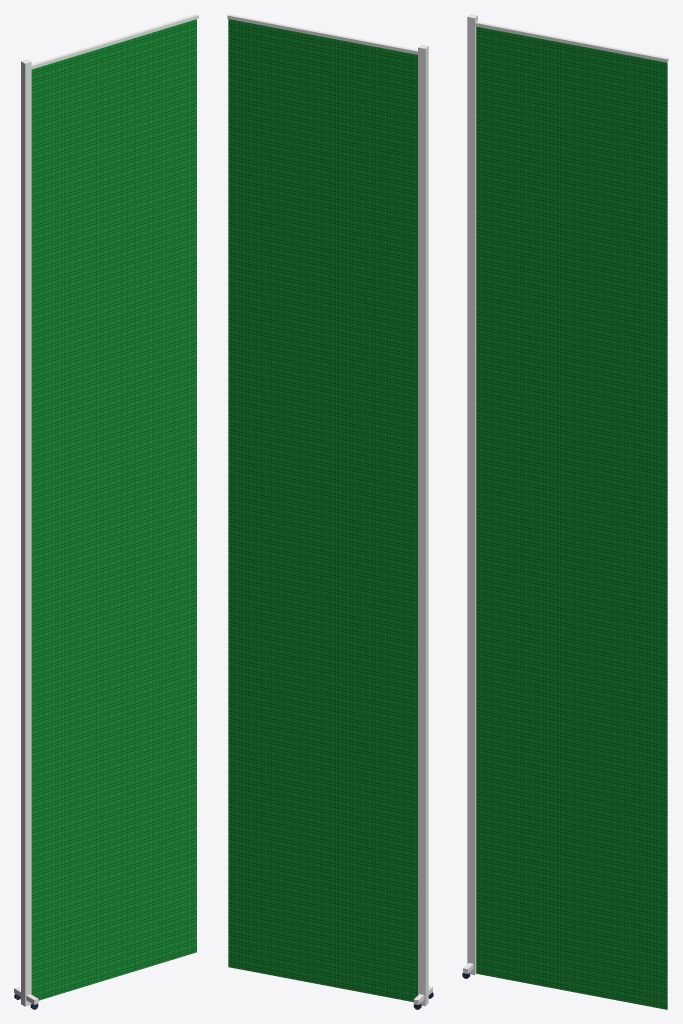
Rendered from Disc_Rotating_part2.FBX.
3 renders of one model, left to right at view 1: azimuth 30°, elevation 25°; view 2: azimuth 150°, elevation 25°; view 3: azimuth 330°, elevation 25°, orthographic.
Visible parts, largest first — view 1: Disc_Rotating_part2; view 2: Disc_Rotating_part2; view 3: Disc_Rotating_part2.
Part boxes in pixels (<box>): Disc_Rotating_part2: <box>14,14,198,1009</box>; Disc_Rotating_part2: <box>227,14,433,1009</box>; Disc_Rotating_part2: <box>462,14,668,1009</box>.
Bounding box in the file's own units: 20.84 × 101 × 3.9.
